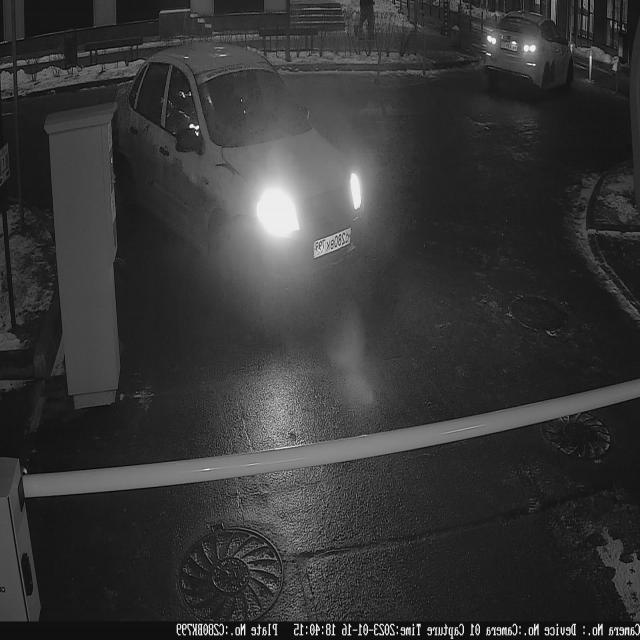car-plate-numbers: (312, 223, 354, 262)
